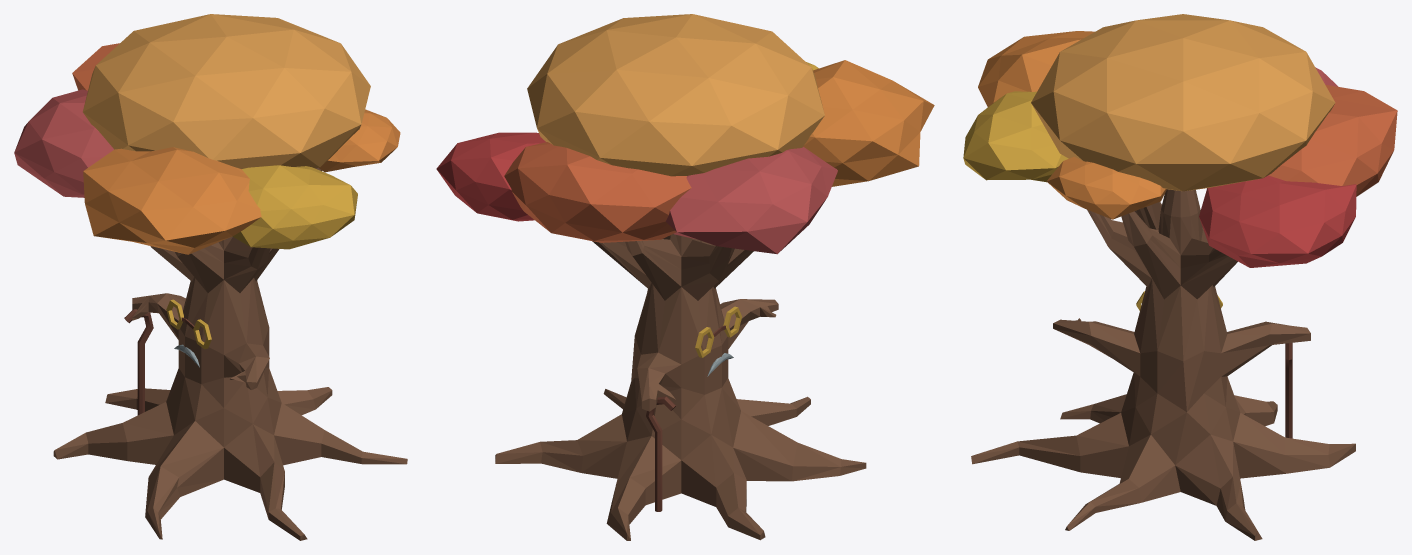
File: Ent_Old_Forest.FBX
3 views of the same model, side by side, from view 1: azimuth 30°, elevation 25°; view 2: azimuth 150°, elevation 25°; view 3: azimuth 270°, elevation 25° (orthographic). The views are drawn at different scales.
Parts seen in each view (by area): view 1: Cylinder025, GeoSphere043, GeoSphere044, GeoSphere045, GeoSphere049, GeoSphere046, Line002, GeoSphere048; view 2: Cylinder025, GeoSphere043, GeoSphere048, GeoSphere049, GeoSphere044, GeoSphere047, Line002; view 3: Cylinder025, GeoSphere043, GeoSphere047, GeoSphere048, GeoSphere045, GeoSphere046, GeoSphere044, Line002.
Boxes of the visible parts, bbox=[...] form: Cylinder025: bbox=[53, 168, 407, 540]; GeoSphere043: bbox=[83, 14, 370, 168]; GeoSphere044: bbox=[83, 147, 261, 254]; GeoSphere045: bbox=[232, 165, 357, 249]; GeoSphere049: bbox=[14, 89, 113, 197]; GeoSphere046: bbox=[319, 109, 400, 172]; Line002: bbox=[124, 309, 153, 415]; GeoSphere048: bbox=[72, 43, 119, 90]; Cylinder025: bbox=[495, 234, 866, 540]; GeoSphere043: bbox=[527, 14, 824, 176]; GeoSphere048: bbox=[504, 142, 691, 242]; GeoSphere049: bbox=[666, 147, 837, 254]; GeoSphere044: bbox=[803, 60, 934, 186]; GeoSphere047: bbox=[436, 132, 545, 221]; Line002: bbox=[646, 396, 675, 511]; Cylinder025: bbox=[971, 189, 1355, 540]; GeoSphere043: bbox=[1031, 14, 1335, 191]; GeoSphere047: bbox=[1199, 175, 1356, 267]; GeoSphere048: bbox=[1268, 84, 1397, 196]; GeoSphere045: bbox=[963, 91, 1068, 182]; GeoSphere046: bbox=[1046, 156, 1166, 219]; GeoSphere044: bbox=[978, 31, 1094, 106]; Line002: bbox=[1285, 343, 1292, 438].
Size of the model in its own units: 45.51 by 52.4 by 46.49.
